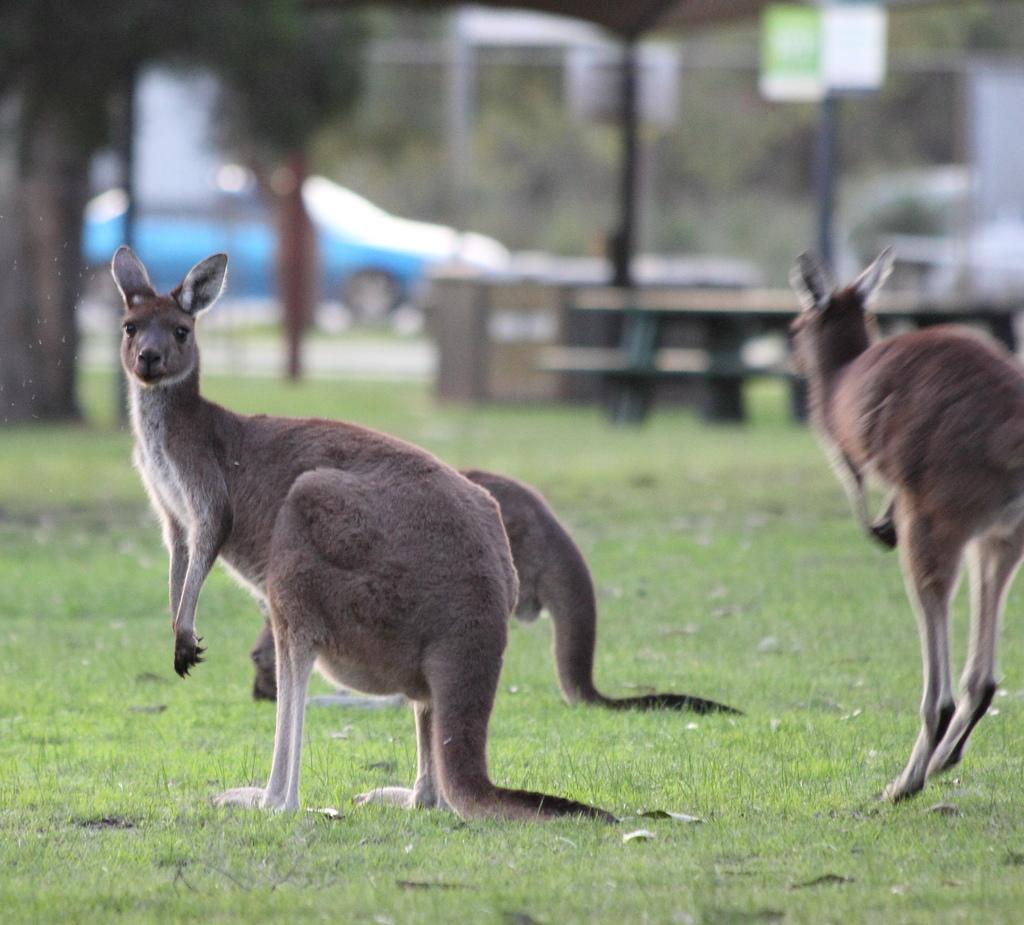kangaroo: (122, 247, 615, 825), (782, 245, 1024, 797), (246, 468, 740, 718)
